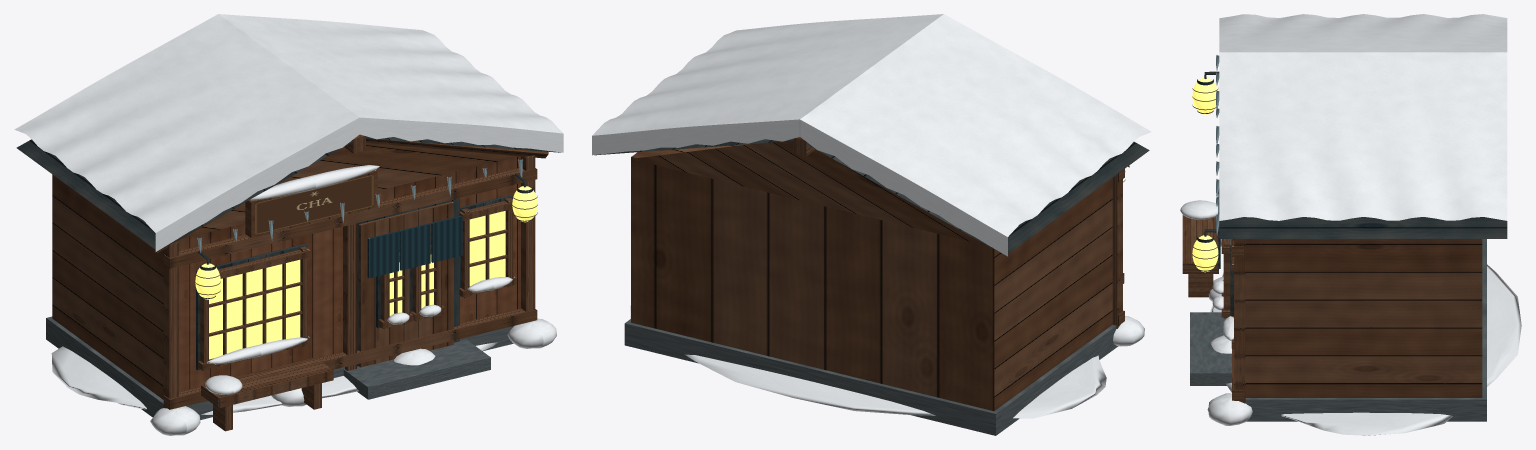
File: nyanisyarud-snow-teahouse.glb
The picture shows the model from 3 angles, left to right: view 1: azimuth 30°, elevation 25°; view 2: azimuth 150°, elevation 25°; view 3: azimuth 270°, elevation 25°; orthographic projection.
Visible parts, largest first — view 1: 02 Snow village tea house | front +Z; view 2: 02 Snow village tea house | front +Z; view 3: 02 Snow village tea house | front +Z.
Boxes of the visible parts, x1=… form: 02 Snow village tea house | front +Z: x1=14, y1=14, x2=563, y2=435; 02 Snow village tea house | front +Z: x1=592, y1=14, x2=1151, y2=435; 02 Snow village tea house | front +Z: x1=1180, y1=14, x2=1521, y2=435.
Bounding box in the file's own units: 5.58 × 3.32 × 3.66.
10 materials, 10 textured.
